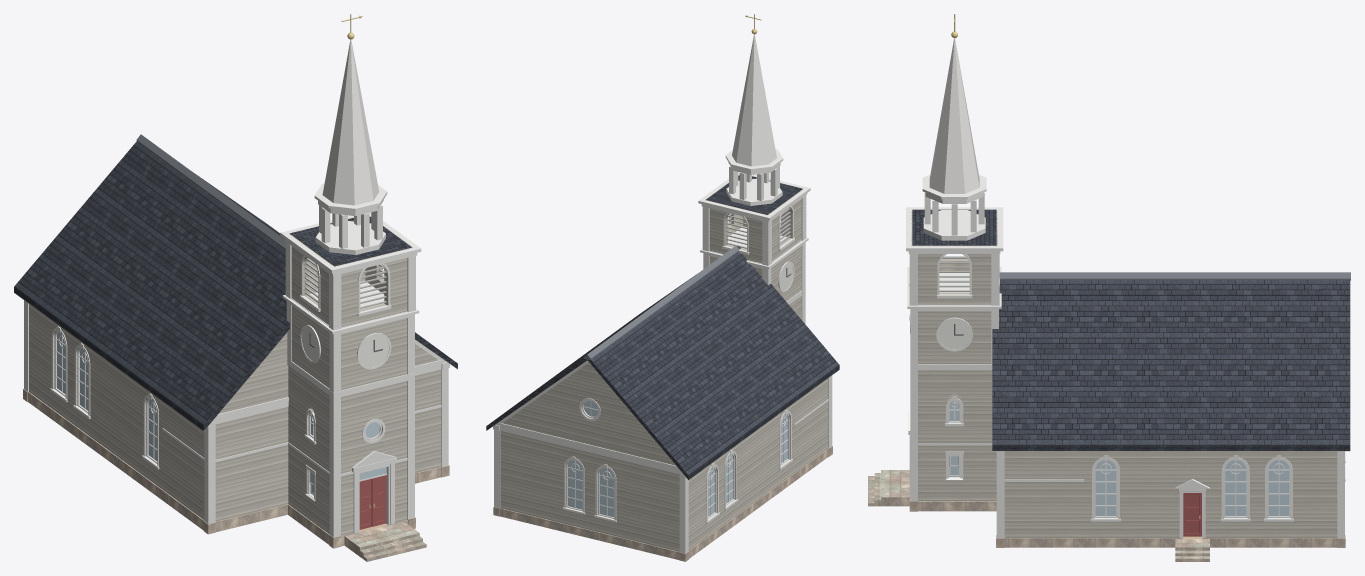
Rendered from building_assembled.glb.
The picture shows the model from 3 angles, left to right: view 1: azimuth 30°, elevation 25°; view 2: azimuth 150°, elevation 25°; view 3: azimuth 270°, elevation 25°; orthographic projection. The views are drawn at different scales.
Visible parts, largest first — view 1: building_shingle, building_siding, building_trim, building_stone, building_frame, building_glass, building_ridge, building_door, building_clock, building_louvre, building_plaster; view 2: building_shingle, building_siding, building_trim, building_stone, building_glass, building_frame, building_ridge, building_plaster, building_louvre; view 3: building_shingle, building_siding, building_trim, building_stone, building_glass, building_ridge, building_frame, building_door, building_clock, building_plaster, building_louvre.
Part boxes in pixels (x1,y1,x2,y2): building_shingle: [14, 141, 457, 430]; building_siding: [29, 216, 440, 535]; building_trim: [24, 39, 449, 537]; building_stone: [23, 388, 449, 561]; building_frame: [54, 330, 389, 532]; building_glass: [57, 332, 386, 493]; building_ridge: [136, 134, 318, 273]; building_door: [359, 475, 386, 529]; building_clock: [301, 327, 389, 367]; building_louvre: [305, 258, 386, 308]; building_plaster: [14, 235, 457, 473]; building_shingle: [486, 175, 839, 479]; building_siding: [500, 190, 828, 551]; building_trim: [493, 34, 832, 553]; building_stone: [493, 446, 832, 561]; building_glass: [568, 401, 787, 517]; building_frame: [566, 400, 789, 518]; building_ridge: [583, 245, 739, 360]; building_plaster: [486, 209, 838, 480]; building_louvre: [726, 208, 790, 248]; building_shingle: [912, 209, 1350, 450]; building_siding: [911, 211, 1337, 537]; building_trim: [906, 38, 1345, 538]; building_stone: [868, 470, 1345, 561]; building_glass: [949, 401, 1289, 516]; building_ridge: [999, 272, 1350, 280]; building_frame: [948, 401, 1290, 538]; building_door: [1183, 493, 1201, 536]; building_clock: [938, 320, 970, 349]; building_plaster: [917, 246, 1349, 451]; building_louvre: [939, 256, 969, 291].
Bounding box in the file's own units: 14 × 24.4 × 22.32.
Materials: 18 (4 with a texture image).
